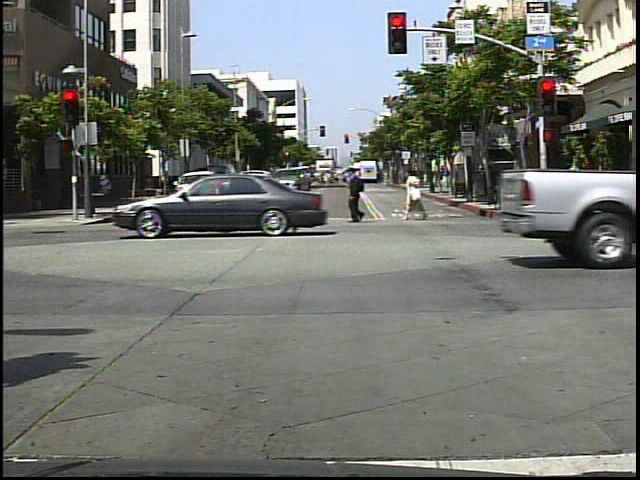person: (342, 163, 376, 227), (201, 167, 233, 226), (402, 163, 433, 222), (564, 158, 586, 208)
